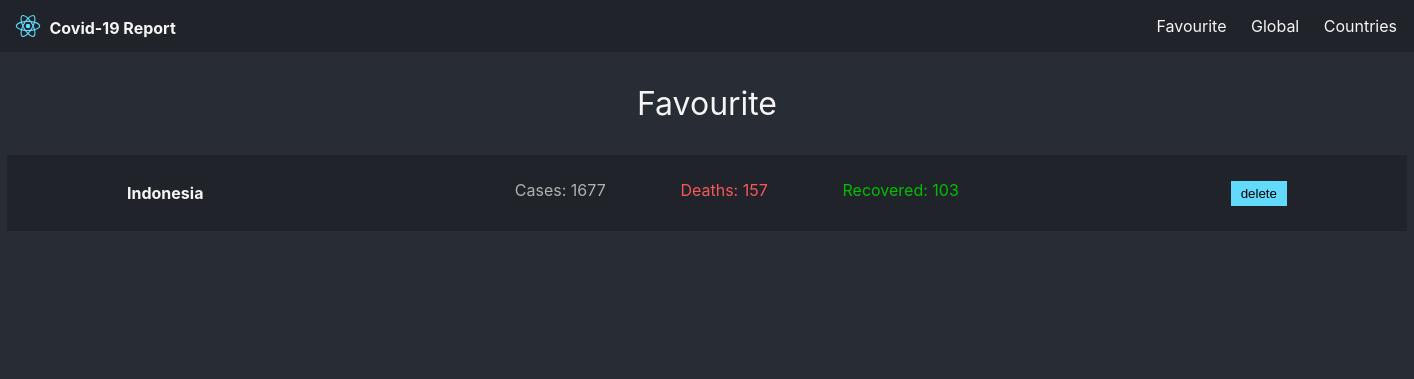
Test: Testing Navbar Links, Goto Favourite Page, Home Page, Country Page › Test NavBar Link to Country
Click the link with test id "linkToCountries": click(1360, 26) [1324,16,1397,36]
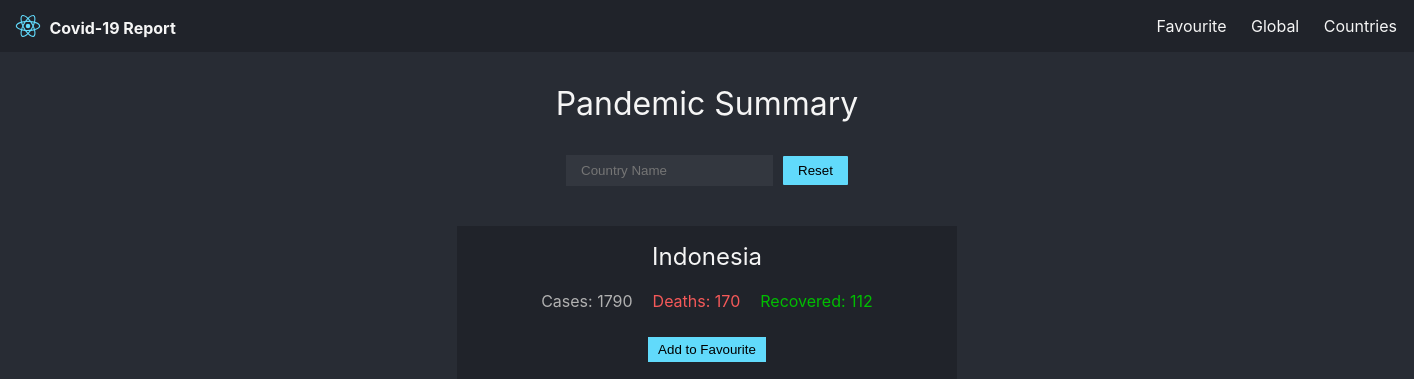
Expected: the heading "Pandemic Summary" is shown, [556,84,858,123]
